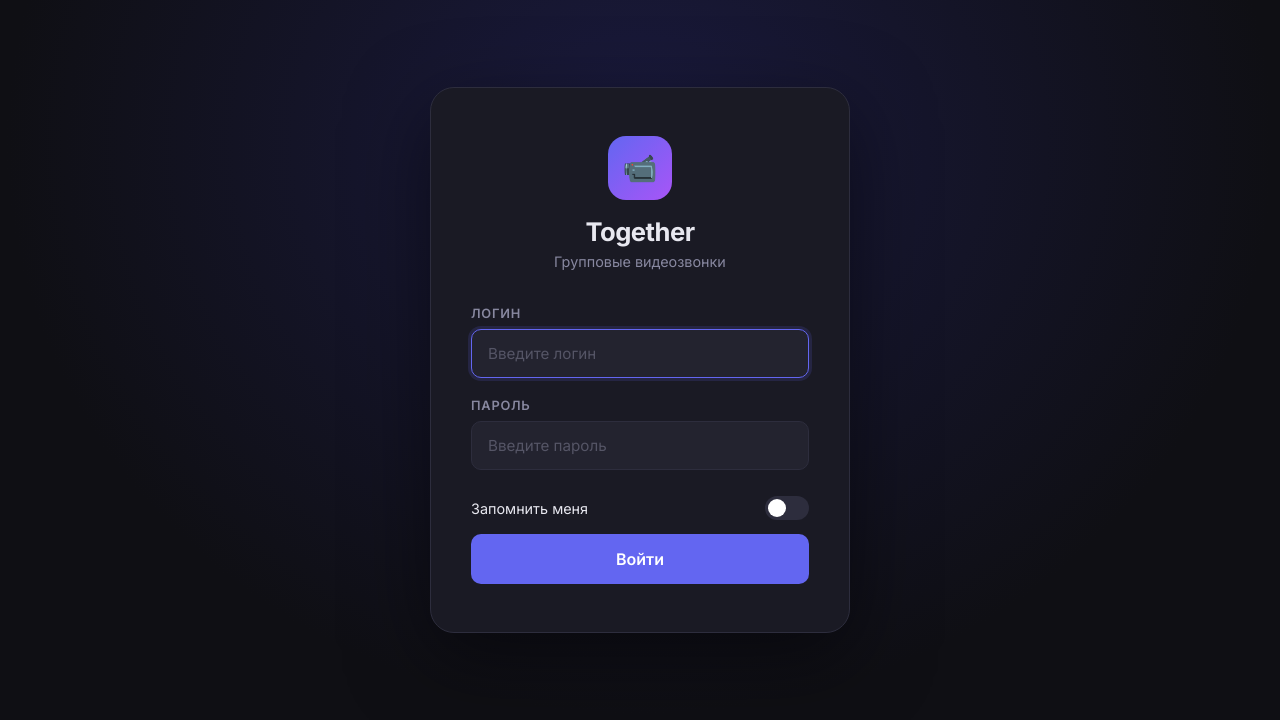
Test: Login › показывает ошибку при неверных данных
Step 1. Type "wrong" into the field with placeholder "Введите логин" → (640, 354), box [471,329,809,378]
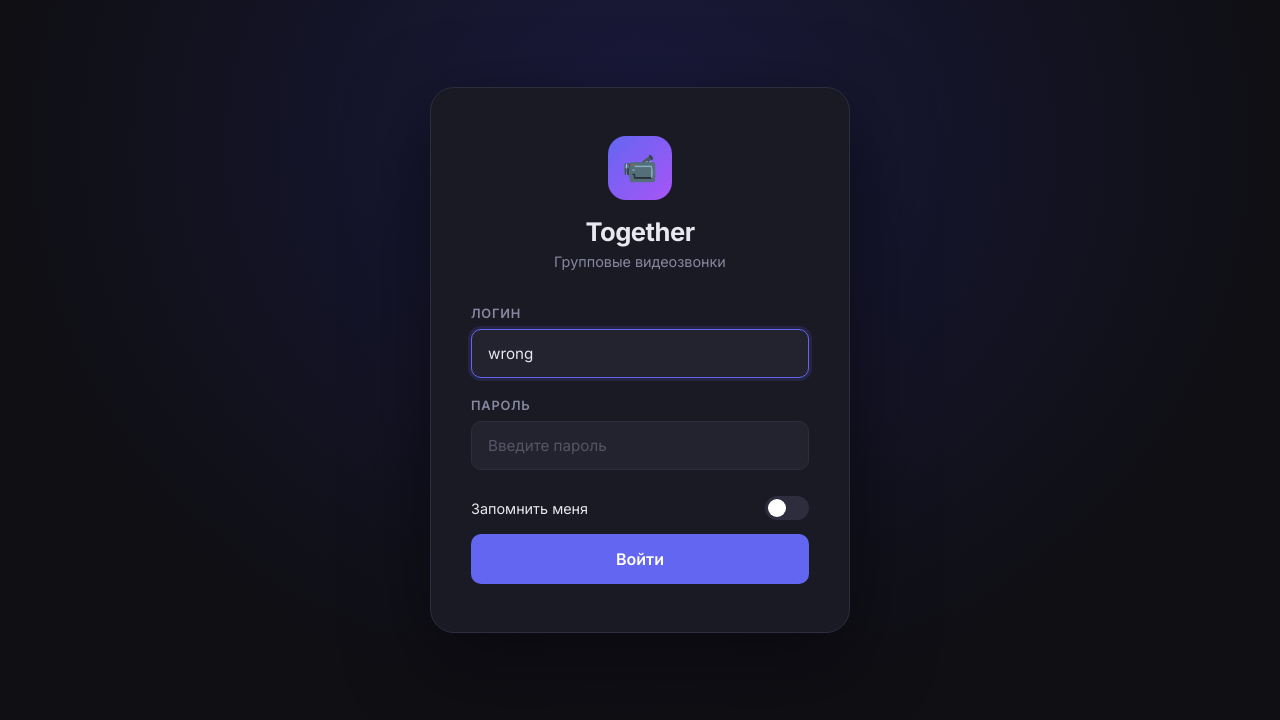
Step 2. Type "wrong" into the password field with placeholder "Введите пароль" → (640, 446), box [471,421,809,470]
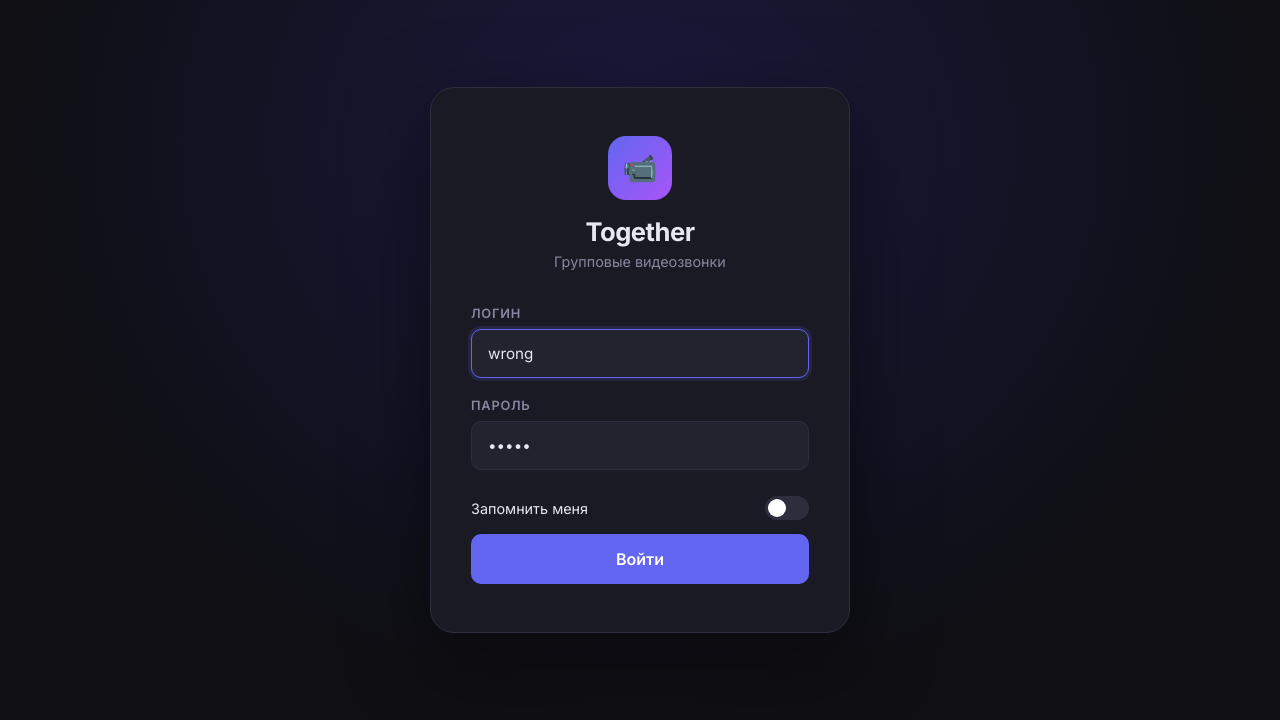
Step 3. Click the button "Войти" → (640, 559), box [471,534,809,584]
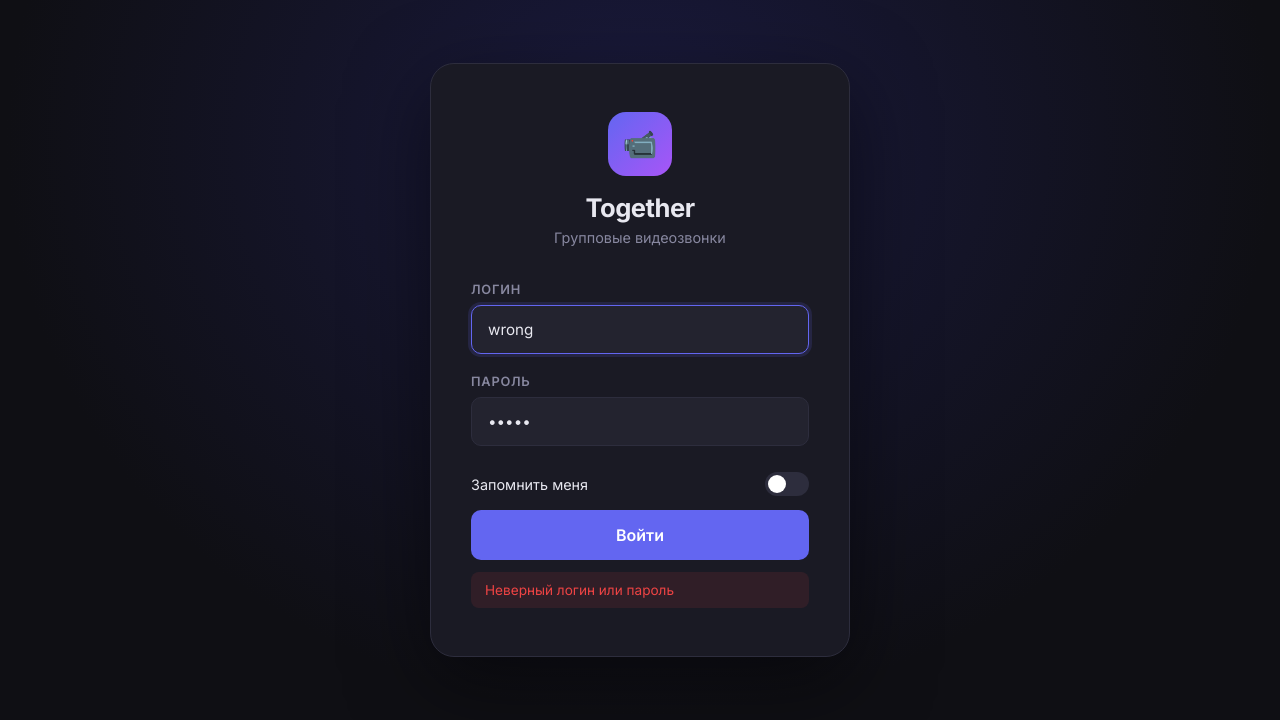
Now the text "Неверный логин или пароль" is shown, box [471,572,809,608]
